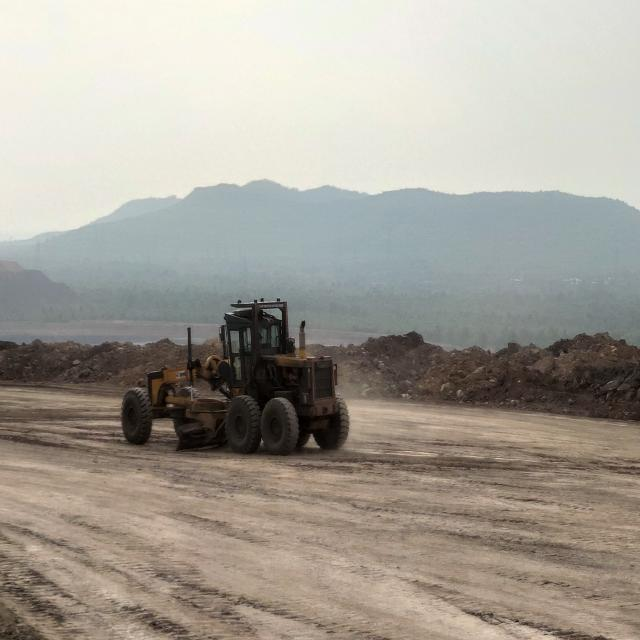buldozerpayloadergrader: (121, 300, 349, 455)
